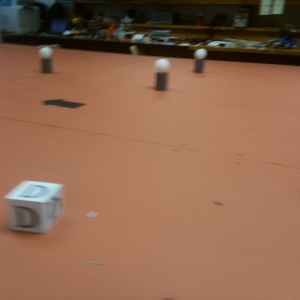blockD: (7, 179, 63, 232)
obstacle: (154, 60, 170, 90), (39, 47, 52, 73), (195, 50, 205, 73)
start: (39, 96, 85, 110)
